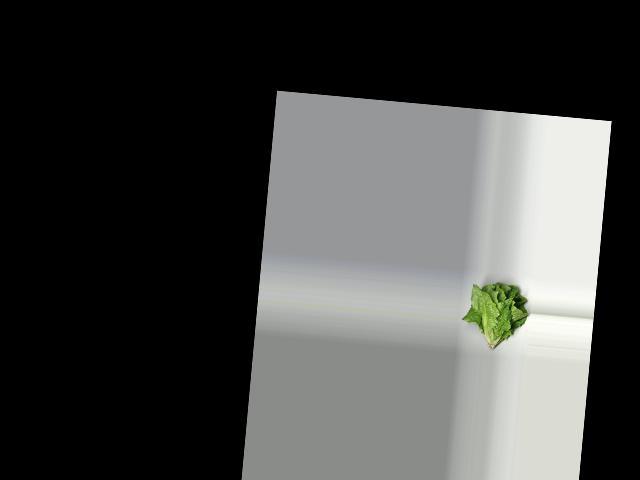lettuce: (460, 279, 530, 353)
